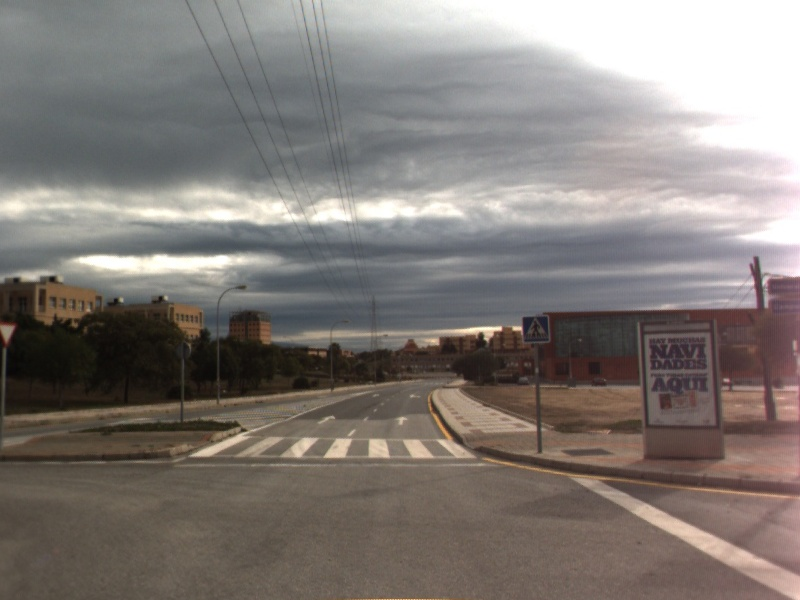STRAIGHT: (314, 412, 338, 426), (392, 414, 410, 427)
